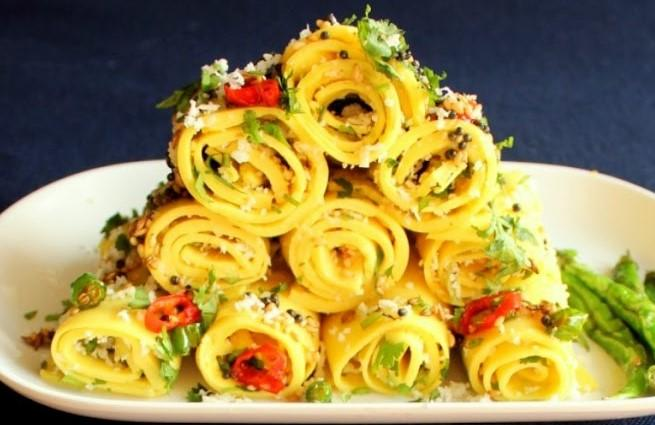khandvi: (67, 21, 576, 416)
